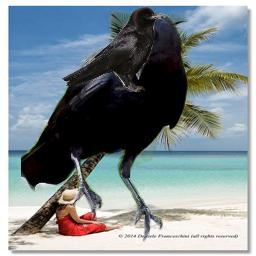Crow: (21, 13, 188, 242), (61, 6, 166, 92)
